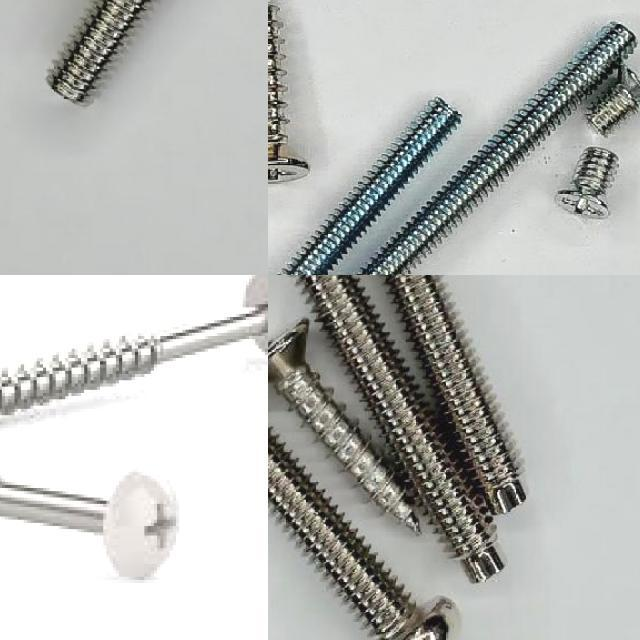Screw: (356, 22, 637, 275), (297, 275, 503, 582), (268, 431, 453, 640), (0, 275, 268, 419), (384, 275, 526, 515), (268, 319, 419, 533), (279, 99, 460, 275), (0, 472, 179, 580), (47, 0, 147, 103), (268, 0, 309, 182), (556, 147, 619, 218), (587, 64, 640, 136)
